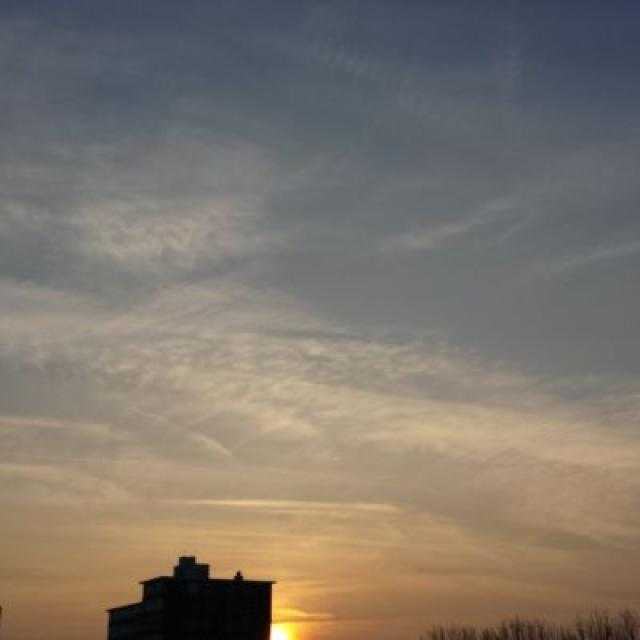Ct: (1, 37, 640, 507)
